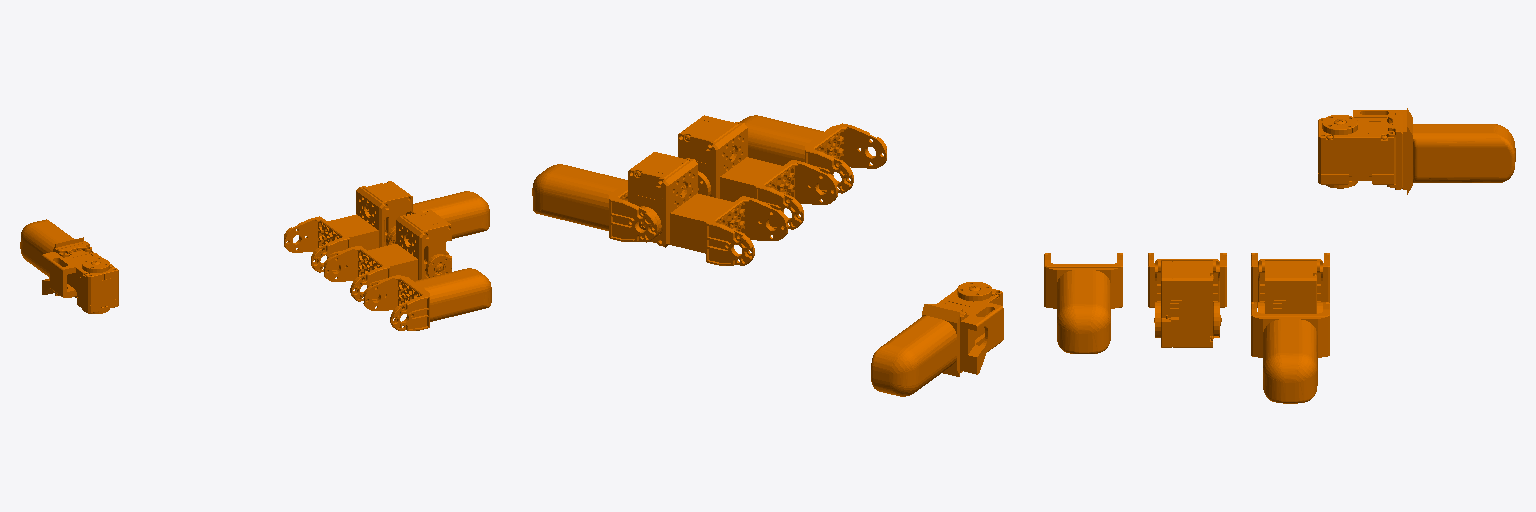
URDF robot description (onshape):
<robot name="onshape">
  <link name="palm_lower">
    <inertial>
      <origin xyz="0.0 0.0 0.0" rpy="0.0 -0.0 0.0"/>
      <mass value="0.237"/>
      <inertia ixx="0.000354094" ixy="-1.193e-06" ixz="-2.445e-06" iyy="0.000260915" iyz="-2.905e-06" izz="0.000529257"/>
    </inertial>
    <visual>
      <geometry>
        <mesh filename="../assets/leap/leap_hand/palm_lower.stl"/>
      </geometry>
      <origin xyz="-0.020095249652862544 0.025757756134899473 -0.034722403578460216" rpy="0.0 -0.0 0.0"/>
      <material name="palm_lower_material">
        <color rgba="0.6039215686274509 0.14901960784313725 0.14901960784313725 1.0"/>
      </material>
    </visual>
    <collision>
      <geometry>
        <mesh filename="../assets/leap/leap_hand/palm_lower.stl"/>
      </geometry>
      <origin xyz="-0.020095249652862544 0.025757756134899473 -0.034722403578460216" rpy="0.0 -0.0 0.0"/>
    </collision>
  </link>
  <link name="mcp_joint">
    <inertial>
      <origin xyz="0.0 0.0 0.0" rpy="0.0 -0.0 0.0"/>
      <mass value="0.044"/>
      <inertia ixx="1.1499e-05" ixy="3.049e-06" ixz="1.21e-07" iyy="7.796e-06" iyz="1.12e-07" izz="1.4759e-05"/>
    </inertial>
    <visual>
      <geometry>
        <mesh filename="../assets/leap/leap_hand/mcp_joint.stl"/>
      </geometry>
      <origin xyz="0.008406902261174496 0.0077662438597169954 0.014657354985032912" rpy="1.6375789613221e-15 -1.021047330249102e-30 1.7177968783327987e-31"/>
      <material name="mcp_joint_material">
        <color rgba="0.8666666666666667 0.8666666666666667 0.050980392156862744 1.0"/>
      </material>
    </visual>
    <collision>
      <geometry>
        <mesh filename="../assets/leap/leap_hand/mcp_joint.stl"/>
      </geometry>
      <origin xyz="0.008406902261174496 0.0077662438597169954 0.014657354985032912" rpy="1.6375789613221e-15 -1.021047330249102e-30 1.7177968783327987e-31"/>
    </collision>
  </link>
  <link name="pip">
    <inertial>
      <origin xyz="0.0 0.0 0.0" rpy="0.0 -0.0 0.0"/>
      <mass value="0.032"/>
      <inertia ixx="4.798e-06" ixy="1.2e-08" ixz="4e-09" iyy="2.862e-06" iyz="1.1e-08" izz="4.234e-06"/>
    </inertial>
    <visual>
      <geometry>
        <mesh filename="../assets/leap/leap_hand/pip.stl"/>
      </geometry>
      <origin xyz="0.009643363092271328 0.0002999999999999895 0.0007840340104173765" rpy="-1.5707963267948966 -1.5707963267948963 0.0"/>
      <material name="pip_material">
        <color rgba="0.7490196078431373 0.7490196078431373 0.7490196078431373 1.0"/>
      </material>
    </visual>
    <collision>
      <geometry>
        <mesh filename="../assets/leap/leap_hand/pip.stl"/>
      </geometry>
      <origin xyz="0.009643363092271328 0.0002999999999999895 0.0007840340104173765" rpy="-1.5707963267948966 -1.5707963267948963 0.0"/>
    </collision>
  </link>
  <link name="dip_long">
    <inertial>
      <origin xyz="0.0 0.0 0.0" rpy="0.0 -0.0 0.0"/>
      <mass value="0.037"/>
      <inertia ixx="5.542e-06" ixy="-6.07e-07" ixz="-1.7e-08" iyy="5.727e-06" iyz="-2.3e-08" izz="6.682e-06"/>
    </inertial>
    <visual>
      <geometry>
        <mesh filename="custom_models/dip_long.stl"/>
      </geometry>
      <origin xyz="0.021133352895225003 -0.00843211914670488 0.00978508816209524" rpy="-3.141592653589793 4.507511124216441e-32 4.439548105392361e-32"/>
      <material name="dip_material">
        <color rgba="0.878 0.467 0.0 1.0"/>
      </material>
    </visual>
    <collision>
      <geometry>
        <mesh filename="custom_models/dip_long.stl"/>
      </geometry>
      <origin xyz="0.021133352895225003 -0.00843211914670488 0.00978508816209524" rpy="-3.141592653589793 4.507511124216441e-32 4.439548105392361e-32"/>
    </collision>
  </link>
  <link name="fingertip_long">
    <inertial>
      <origin xyz="0.0 0.0 0.0" rpy="0.0 -0.0 0.0"/>
      <mass value="0.016"/>
      <inertia ixx="3.368e-06" ixy="1.15e-07" ixz="0.0" iyy="1.556e-06" iyz="0.0" izz="2.863e-06"/>
    </inertial>
    <visual>
      <geometry>
        <mesh filename="custom_models/fingertip_long.stl"/>
      </geometry>
      <origin xyz="0.013286424108533503 -0.006114238386541987 0.014499999999999498" rpy="3.141592653589793 1.1993117970061735e-33 4.439548105392361e-32"/>
      <material name="fingertip_material">
        <color rgba="0.878 0.467 0.0 1.0"/>
      </material>
    </visual>
    <collision>
      <geometry>
        <mesh filename="custom_models/fingertip_long.stl"/>
      </geometry>
      <origin xyz="0.013286424108533503 -0.006114238386541987 0.014499999999999498" rpy="3.141592653589793 1.1993117970061735e-33 4.439548105392361e-32"/>
    </collision>
  </link>
  <link name="pip_4">
    <inertial>
      <origin xyz="0.0 0.0 0.0" rpy="0.0 -0.0 0.0"/>
      <mass value="0.032"/>
      <inertia ixx="4.798e-06" ixy="1.2e-08" ixz="4e-09" iyy="2.862e-06" iyz="1.1e-08" izz="4.234e-06"/>
    </inertial>
    <visual>
      <geometry>
        <mesh filename="../assets/leap/leap_hand/pip.stl"/>
      </geometry>
      <origin xyz="-0.005356636907728671 0.0002999999999999999 0.0007840340104173782" rpy="-1.5707963267948966 -1.5707963267948963 0.0"/>
      <material name="pip_material">
        <color rgba="0.7490196078431373 0.7490196078431373 0.7490196078431373 1.0"/>
      </material>
    </visual>
    <collision>
      <geometry>
        <mesh filename="../assets/leap/leap_hand/pip.stl"/>
      </geometry>
      <origin xyz="-0.005356636907728671 0.0002999999999999999 0.0007840340104173782" rpy="-1.5707963267948966 -1.5707963267948963 0.0"/>
    </collision>
  </link>
  <link name="thumb_pip">
    <inertial>
      <origin xyz="0.0 0.0 0.0" rpy="0.0 -0.0 0.0"/>
      <mass value="0.003"/>
      <inertia ixx="5.93e-07" ixy="0.0" ixz="0.0" iyy="5.49e-07" iyz="0.0" izz="2.24e-07"/>
    </inertial>
    <visual>
      <geometry>
        <mesh filename="../assets/leap/leap_hand/thumb_pip.stl"/>
      </geometry>
      <origin xyz="0.011961920770611187 -5.30825383648903e-16 -0.0158526489566642" rpy="1.5707963267948966 1.6050198443300153e-46 -3.9204996250525193e-59"/>
      <material name="thumb_pip_material">
        <color rgba="0.8666666666666667 0.8666666666666667 0.050980392156862744 1.0"/>
      </material>
    </visual>
    <collision>
      <geometry>
        <mesh filename="../assets/leap/leap_hand/thumb_pip.stl"/>
      </geometry>
      <origin xyz="0.011961920770611187 -5.30825383648903e-16 -0.0158526489566642" rpy="1.5707963267948966 1.6050198443300153e-46 -3.9204996250525193e-59"/>
    </collision>
  </link>
  <link name="thumb_fingertip_long">
    <inertial>
      <origin xyz="0.0 0.0 0.0" rpy="0.0 -0.0 0.0"/>
      <mass value="0.049"/>
      <inertia ixx="2.0372e-05" ixy="-4.89e-07" ixz="-3e-08" iyy="4.336e-06" iyz="-9.7e-08" izz="1.9845e-05"/>
    </inertial>
    <visual>
      <geometry>
        <mesh filename="custom_models/thumb_fingertip_long.stl"/>
      </geometry>
      <origin xyz="0.06255953846266739 0.07845968291139699 0.048992911807332215" rpy="4.379057701015637e-47 -3.33066907387547e-16 1.2042408677791935e-46"/>
      <material name="thumb_fingertip_material">
        <color rgba="0.878 0.467 0.0 1.0"/>
      </material>
    </visual>
    <collision>
      <geometry>
        <mesh filename="custom_models/thumb_fingertip_long.stl"/>
      </geometry>
      <origin xyz="0.06255953846266739 0.07845968291139699 0.048992911807332215" rpy="4.379057701015637e-47 -3.33066907387547e-16 1.2042408677791935e-46"/>
    </collision>
  </link>
  <link name="mcp_joint_2">
    <inertial>
      <origin xyz="0.0 0.0 0.0" rpy="0.0 -0.0 0.0"/>
      <mass value="0.044"/>
      <inertia ixx="1.1499e-05" ixy="3.049e-06" ixz="1.21e-07" iyy="7.796e-06" iyz="1.12e-07" izz="1.4759e-05"/>
    </inertial>
    <visual>
      <geometry>
        <mesh filename="../assets/leap/leap_hand/mcp_joint.stl"/>
      </geometry>
      <origin xyz="0.008406902261174496 0.0077662438597169954 0.014657354985032914" rpy="1.6375789613221e-15 -1.0076465469034e-30 2.1209300131419907e-61"/>
      <material name="mcp_joint_material">
        <color rgba="0.8666666666666667 0.8666666666666667 0.050980392156862744 1.0"/>
      </material>
    </visual>
    <collision>
      <geometry>
        <mesh filename="../assets/leap/leap_hand/mcp_joint.stl"/>
      </geometry>
      <origin xyz="0.008406902261174496 0.0077662438597169954 0.014657354985032914" rpy="1.6375789613221e-15 -1.0076465469034e-30 2.1209300131419907e-61"/>
    </collision>
  </link>
  <link name="pip_2">
    <inertial>
      <origin xyz="0.0 0.0 0.0" rpy="0.0 -0.0 0.0"/>
      <mass value="0.032"/>
      <inertia ixx="4.798e-06" ixy="1.2e-08" ixz="4e-09" iyy="2.862e-06" iyz="1.1e-08" izz="4.234e-06"/>
    </inertial>
    <visual>
      <geometry>
        <mesh filename="../assets/leap/leap_hand/pip.stl"/>
      </geometry>
      <origin xyz="0.009643363092271328 0.0002999999999999947 0.0007840340104173765" rpy="-1.5707963267948966 -1.5707963267948963 0.0"/>
      <material name="pip_material">
        <color rgba="0.7490196078431373 0.7490196078431373 0.7490196078431373 1.0"/>
      </material>
    </visual>
    <collision>
      <geometry>
        <mesh filename="../assets/leap/leap_hand/pip.stl"/>
      </geometry>
      <origin xyz="0.009643363092271328 0.0002999999999999947 0.0007840340104173765" rpy="-1.5707963267948966 -1.5707963267948963 0.0"/>
    </collision>
  </link>
  <link name="dip_2_long">
    <inertial>
      <origin xyz="0.0 0.0 0.0" rpy="0.0 -0.0 0.0"/>
      <mass value="0.037"/>
      <inertia ixx="5.542e-06" ixy="-6.07e-07" ixz="-1.7e-08" iyy="5.727e-06" iyz="-2.3e-08" izz="6.682e-06"/>
    </inertial>
    <visual>
      <geometry>
        <mesh filename="custom_models/dip_long.stl"/>
      </geometry>
      <origin xyz="0.021133352895225003 -0.008432119146704865 0.009785088162095237" rpy="-3.141592653589793 2.1146933785271956e-32 1.4408183216511869e-31"/>
      <material name="dip_material">
        <color rgba="0.878 0.467 0.0 1.0"/>
      </material>
    </visual>
    <collision>
      <geometry>
        <mesh filename="custom_models/dip_long.stl"/>
      </geometry>
      <origin xyz="0.021133352895225003 -0.008432119146704865 0.009785088162095237" rpy="-3.141592653589793 2.1146933785271956e-32 1.4408183216511869e-31"/>
    </collision>
  </link>
  <link name="fingertip_2">
    <inertial>
      <origin xyz="0.0 0.0 0.0" rpy="0.0 -0.0 0.0"/>
      <mass value="0.016"/>
      <inertia ixx="3.368e-06" ixy="1.15e-07" ixz="0.0" iyy="1.556e-06" iyz="0.0" izz="2.863e-06"/>
    </inertial>
    <visual>
      <geometry>
        <mesh filename="../assets/leap/leap_hand/fingertip.stl"/>
      </geometry>
      <origin xyz="0.013286424108533496 -0.006114238386542001 0.014499999999999496" rpy="3.141592653589793 -4.317959788283594e-33 1.4408183216511869e-31"/>
      <material name="fingertip_material">
        <color rgba="0.8666666666666667 0.8666666666666667 0.050980392156862744 1.0"/>
      </material>
    </visual>
    <collision>
      <geometry>
        <mesh filename="../assets/leap/leap_hand/fingertip.stl"/>
      </geometry>
      <origin xyz="0.013286424108533496 -0.006114238386542001 0.014499999999999496" rpy="3.141592653589793 -4.317959788283594e-33 1.4408183216511869e-31"/>
    </collision>
  </link>
  <link name="mcp_joint_3">
    <inertial>
      <origin xyz="0.0 0.0 0.0" rpy="0.0 -0.0 0.0"/>
      <mass value="0.044"/>
      <inertia ixx="1.1499e-05" ixy="3.049e-06" ixz="1.21e-07" iyy="7.796e-06" iyz="1.12e-07" izz="1.4759e-05"/>
    </inertial>
    <visual>
      <geometry>
        <mesh filename="../assets/leap/leap_hand/mcp_joint.stl"/>
      </geometry>
      <origin xyz="0.0084069022611745 0.007766243859716996 0.014657354985032914" rpy="1.6375789613221e-15 -1.0059504988632627e-30 5.729641584552035e-32"/>
      <material name="mcp_joint_material">
        <color rgba="0.8666666666666667 0.8666666666666667 0.050980392156862744 1.0"/>
      </material>
    </visual>
    <collision>
      <geometry>
        <mesh filename="../assets/leap/leap_hand/mcp_joint.stl"/>
      </geometry>
      <origin xyz="0.0084069022611745 0.007766243859716996 0.014657354985032914" rpy="1.6375789613221e-15 -1.0059504988632627e-30 5.729641584552035e-32"/>
    </collision>
  </link>
  <link name="pip_3">
    <inertial>
      <origin xyz="0.0 0.0 0.0" rpy="0.0 -0.0 0.0"/>
      <mass value="0.032"/>
      <inertia ixx="4.798e-06" ixy="1.2e-08" ixz="4e-09" iyy="2.862e-06" iyz="1.1e-08" izz="4.234e-06"/>
    </inertial>
    <visual>
      <geometry>
        <mesh filename="../assets/leap/leap_hand/pip.stl"/>
      </geometry>
      <origin xyz="0.009643363092271331 0.00029999999999998084 0.0007840340104173765" rpy="-1.5707963267948966 -1.5707963267948963 0.0"/>
      <material name="pip_material">
        <color rgba="0.7490196078431373 0.7490196078431373 0.7490196078431373 1.0"/>
      </material>
    </visual>
    <collision>
      <geometry>
        <mesh filename="../assets/leap/leap_hand/pip.stl"/>
      </geometry>
      <origin xyz="0.009643363092271331 0.00029999999999998084 0.0007840340104173765" rpy="-1.5707963267948966 -1.5707963267948963 0.0"/>
    </collision>
  </link>
  <link name="fingertip_3_long">
    <inertial>
      <origin xyz="0.0 0.0 0.0" rpy="0.0 -0.0 0.0"/>
      <mass value="0.016"/>
      <inertia ixx="3.368e-06" ixy="1.15e-07" ixz="0.0" iyy="1.556e-06" iyz="0.0" izz="2.863e-06"/>
    </inertial>
    <visual>
      <geometry>
        <mesh filename="custom_models/fingertip_long.stl"/>
      </geometry>
      <origin xyz="0.013286424108533501 -0.006114238386541987 0.0144999999999995" rpy="3.141592653589793 8.61707169505754e-33 1.5565411607615035e-32"/>
      <material name="fingertip_material">
        <color rgba="0.878 0.467 0.0 1.0"/>
      </material>
    </visual>
    <collision>
      <geometry>
        <mesh filename="custom_models/fingertip_long.stl"/>
      </geometry>
      <origin xyz="0.013286424108533501 -0.006114238386541987 0.0144999999999995" rpy="3.141592653589793 8.61707169505754e-33 1.5565411607615035e-32"/>
    </collision>
  </link>
  <joint name="1" type="revolute">
    <parent link="palm_lower"/>
    <child link="mcp_joint"/>
    <origin xyz="-0.007095249652862546 0.023057756134899472 -0.01872240357846022" rpy="1.570796326794895 1.5707963267948946 0.0"/>
    <axis xyz="0.0 0.0 -1.0"/>
    <limit effort="0.95" velocity="8.48" lower="-0.314" upper="2.23"/>
  </joint>
  <joint name="0" type="revolute">
    <parent link="mcp_joint"/>
    <child link="pip"/>
    <origin xyz="-0.012200000000000008 0.038099999999999995 0.0145" rpy="-1.5707963267948966 -1.0065212660796337e-15 1.5707963267948943"/>
    <axis xyz="0.0 0.0 -1.0"/>
    <limit effort="0.95" velocity="8.48" lower="-1.047" upper="1.047"/>
  </joint>
  <joint name="2" type="revolute">
    <parent link="pip"/>
    <child link="dip_long"/>
    <origin xyz="0.014999999999999968 0.014299999999999905 -0.012999999999999824" rpy="1.570796326794896 -1.5707963267948963 0.0"/>
    <axis xyz="0.0 0.0 -1.0"/>
    <limit effort="0.95" velocity="8.48" lower="-0.506" upper="1.885"/>
  </joint>
  <joint name="3" type="revolute">
    <parent link="dip_long"/>
    <child link="fingertip_long"/>
    <origin xyz="-4.0880582495572692636e-09 -0.051100004210367367397 0.00020000000000007858714" rpy="4.5935029425113685e-17 -2.8730071914463795e-16 4.439548105392361e-32"/>
    <axis xyz="0.0 0.0 -1.0"/>
    <limit effort="0.95" velocity="8.48" lower="-0.366" upper="2.042"/>
  </joint>
  <joint name="12" type="revolute">
    <parent link="palm_lower"/>
    <child link="pip_4"/>
    <origin xyz="-0.06939524965286253 -0.0012422438651005258 -0.021622403578460216" rpy="-8.238176646493942e-17 1.5707963267948957 0.0"/>
    <axis xyz="0.0 0.0 -1.0"/>
    <limit effort="0.95" velocity="8.48" lower="-0.349" upper="2.094"/>
  </joint>
  <joint name="13" type="revolute">
    <parent link="pip_4"/>
    <child link="thumb_pip"/>
    <origin xyz="-2.7755575615628914e-17 0.014300000000000005 -0.013000000000000012" rpy="1.570796326794896 -1.5707963267948963 0.0"/>
    <axis xyz="0.0 0.0 -1.0"/>
    <limit effort="0.95" velocity="8.48" lower="-0.47" upper="2.443"/>
  </joint>
  <joint name="15" type="revolute">
    <parent link="thumb_pip"/>
    <child link="thumb_fingertip_long"/>
    <origin xyz="0.0 0.014499999999999966 -0.017000000000000053" rpy="1.5707963267948968 0.0015926535897931142 3.141592653589793"/>
    <axis xyz="0.0 0.0 -1.0"/>
    <limit effort="0.95" velocity="8.48" lower="-1.2" upper="1.9"/>
  </joint>
  <joint name="5" type="revolute">
    <parent link="palm_lower"/>
    <child link="mcp_joint_2"/>
    <origin xyz="-0.007095249652862546 -0.022392243865100525 -0.01872240357846022" rpy="1.570796326794895 1.5707963267948946 0.0"/>
    <axis xyz="0.0 0.0 -1.0"/>
    <limit effort="0.95" velocity="8.48" lower="-0.314" upper="2.23"/>
  </joint>
  <joint name="4" type="revolute">
    <parent link="mcp_joint_2"/>
    <child link="pip_2"/>
    <origin xyz="-0.012200000000000008 0.038099999999999995 0.0145" rpy="-1.5707963267948966 -1.0065212660796337e-15 1.5707963267948943"/>
    <axis xyz="0.0 0.0 -1.0"/>
    <limit effort="0.95" velocity="8.48" lower="-1.047" upper="1.047"/>
  </joint>
  <joint name="6" type="revolute">
    <parent link="pip_2"/>
    <child link="dip_2_long"/>
    <origin xyz="0.014999999999999968 0.014299999999999905 -0.012999999999999824" rpy="1.570796326794896 -1.5707963267948963 0.0"/>
    <axis xyz="0.0 0.0 -1.0"/>
    <limit effort="0.95" velocity="8.48" lower="-0.506" upper="1.885"/>
  </joint>
  <joint name="7" type="revolute">
    <parent link="dip_2_long"/>
    <child link="fingertip_2"/>
    <origin xyz="-4.0880582495572692636e-09 -0.051100004210367367397 0.00020000000000007858714" rpy="4.5935029425113685e-17 -2.8730071914463795e-16 4.439548105392361e-32"/>
    <axis xyz="0.0 0.0 -1.0"/>
    <limit effort="0.95" velocity="8.48" lower="-0.366" upper="2.042"/>
  </joint>
  <joint name="9" type="revolute">
    <parent link="palm_lower"/>
    <child link="mcp_joint_3"/>
    <origin xyz="-0.007095249652862546 -0.06784224386510052 -0.01872240357846022" rpy="1.570796326794895 1.5707963267948946 0.0"/>
    <axis xyz="0.0 0.0 -1.0"/>
    <limit effort="0.95" velocity="8.48" lower="-0.314" upper="2.23"/>
  </joint>
  <joint name="8" type="revolute">
    <parent link="mcp_joint_3"/>
    <child link="pip_3"/>
    <origin xyz="-0.012200000000000008 0.038099999999999995 0.0145" rpy="-1.5707963267948966 -1.0065212660796337e-15 1.5707963267948943"/>
    <axis xyz="0.0 0.0 -1.0"/>
    <limit effort="0.95" velocity="8.48" lower="-1.047" upper="1.047"/>
  </joint>
  <joint name="10" type="revolute">
    <parent link="pip_3"/>
    <child link="fingertip_3_long"/>
    <origin xyz="0.014999999999999968 0.014299999999999905 -0.012999999999999824" rpy="1.570796326794896 -1.5707963267948963 0.0"/>
    <axis xyz="0.0 0.0 -1.0"/>
    <limit effort="0.95" velocity="8.48" lower="-0.506" upper="1.885"/>
  </joint>
</robot>

--- Facts derived from the render (not from the file) ---
3 views of the same robot in one strip: view 1: azimuth 30°, elevation 25°; view 2: azimuth 150°, elevation 25°; view 3: azimuth 270°, elevation 25° (orthographic).
Model onshape with 15 links and 14 joints (14 revolute), rooted at palm_lower, posed all joints at 0.
Links seen in each view (by area): view 1: dip_2_long, thumb_fingertip_long, dip_long, fingertip_3_long, fingertip_long; view 2: dip_long, thumb_fingertip_long, dip_2_long, fingertip_long, fingertip_3_long; view 3: thumb_fingertip_long, dip_2_long, fingertip_3_long, fingertip_long, dip_long.
Link boxes in pixels (x1,y1,x2,y2): dip_2_long: (324, 210, 451, 301); thumb_fingertip_long: (20, 219, 118, 313); dip_long: (284, 181, 412, 272); fingertip_3_long: (363, 268, 491, 330); fingertip_long: (388, 191, 489, 244); dip_long: (628, 152, 787, 265); thumb_fingertip_long: (871, 282, 1003, 396); dip_2_long: (678, 115, 837, 229); fingertip_long: (532, 164, 658, 242); fingertip_3_long: (732, 115, 886, 193); thumb_fingertip_long: (1318, 108, 1515, 194); dip_2_long: (1148, 253, 1226, 347); fingertip_3_long: (1044, 253, 1122, 353); fingertip_long: (1251, 302, 1329, 403); dip_long: (1251, 253, 1329, 313).
Size in the robot's own frame: 0.2625 by 0.207 by 0.0429 metres.
5 mesh visuals loaded from 8 distinct referenced files (3 binary STL); not drawn: 10 (reference not matched to a file when rendering).